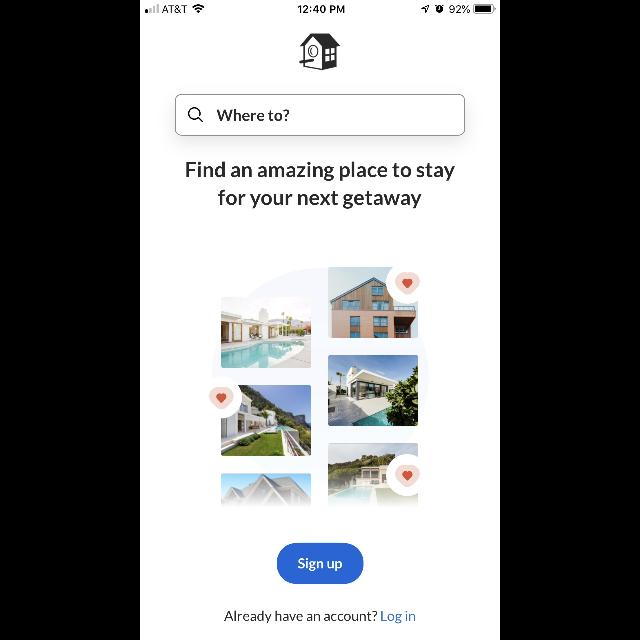icon: (300, 34, 340, 70), (188, 108, 204, 122)
image: (209, 267, 429, 507)
input: (175, 94, 465, 136)
text: (187, 162, 455, 208), (217, 110, 290, 122)
textbutton: (276, 542, 364, 584), (224, 610, 416, 624)
uppertaskbar: (140, 0, 500, 14)
